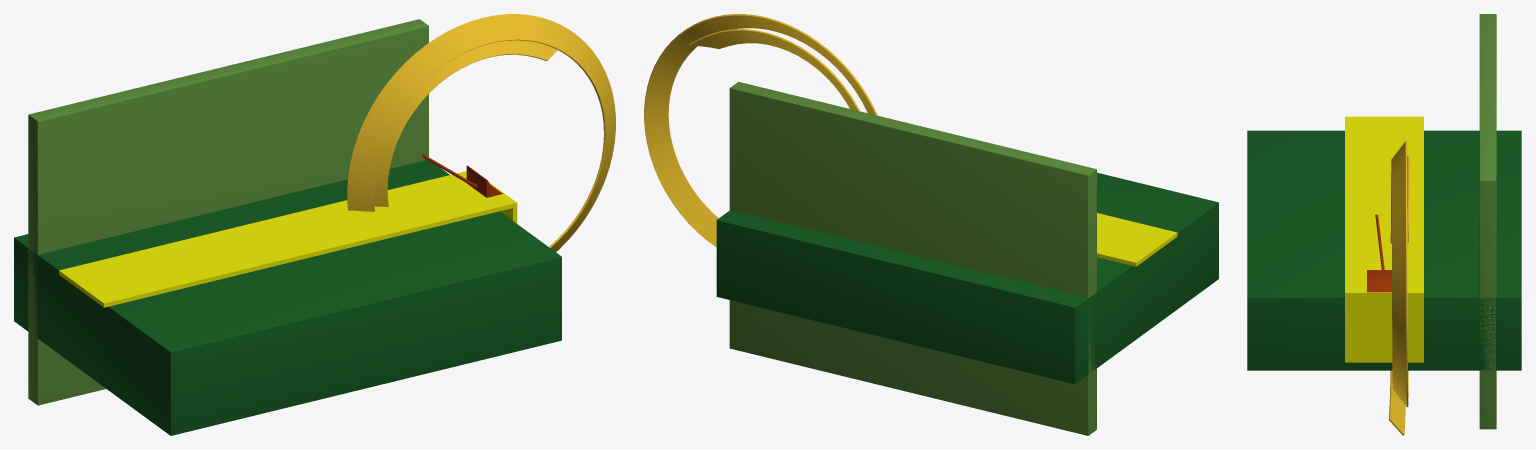
The model's file is Roll-Up Object (Aimated)&Plane.fbx.
3 renders of one model, left to right at view 1: azimuth 30°, elevation 25°; view 2: azimuth 150°, elevation 25°; view 3: azimuth 270°, elevation 25°, orthographic. The views are drawn at different scales.
Visible parts, largest first — view 1: Cube.001, Cube.002, Plane.001, Plane; view 2: Cube.002, Cube.001, Plane, Plane.001; view 3: Cube.001, Plane.001, Cube.002, Plane, Cube.
Boxes of the visible parts, left/top/right/bottom form: Cube.001: left=14, top=160, right=561, bottom=435; Cube.002: left=28, top=19, right=428, bottom=405; Plane.001: left=59, top=171, right=517, bottom=307; Plane: left=347, top=14, right=615, bottom=251; Cube.002: left=729, top=81, right=1096, bottom=435; Cube.001: left=716, top=172, right=1218, bottom=384; Plane: left=644, top=14, right=877, bottom=247; Plane.001: left=1097, top=213, right=1177, bottom=266; Cube.001: left=1247, top=130, right=1521, bottom=370; Plane.001: left=1345, top=116, right=1423, bottom=362; Cube.002: left=1479, top=14, right=1496, bottom=429; Plane: left=1388, top=141, right=1409, bottom=435; Cube: left=1367, top=270, right=1391, bottom=292.
Size of the model in its own units: 6557 by 3674 by 3258.
